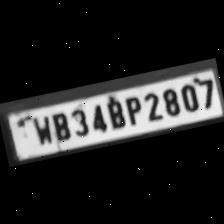0: (175, 80, 200, 114)
2: (138, 88, 164, 124)
3: (65, 103, 90, 139)
4: (85, 100, 109, 136)
7: (194, 75, 218, 111)
8: (158, 83, 182, 118)
B: (101, 96, 126, 132), (46, 108, 72, 142)
P: (120, 92, 144, 128)
W: (27, 112, 53, 148)
